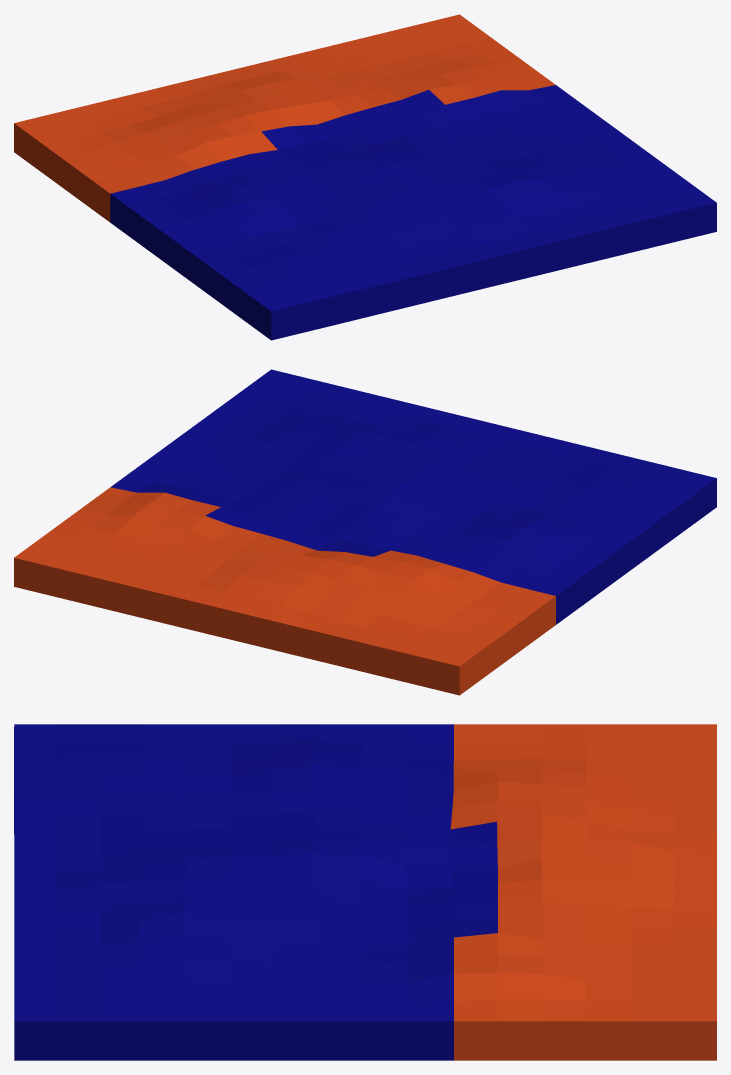
File: WaterSand2.FBX
3 views of the same model, one above another, from view 1: azimuth 30°, elevation 25°; view 2: azimuth 150°, elevation 25°; view 3: azimuth 270°, elevation 25° (orthographic). The views are drawn at different scales.
Visible parts, largest first — view 1: Terrain.041; view 2: Terrain.041; view 3: Terrain.041.
Boxes of the visible parts, x1,y1,x2,y2 form: Terrain.041: (14, 14, 716, 340); Terrain.041: (14, 369, 716, 695); Terrain.041: (14, 724, 716, 1060).
Size of the model in its own units: 800 by 800 by 73.49.
